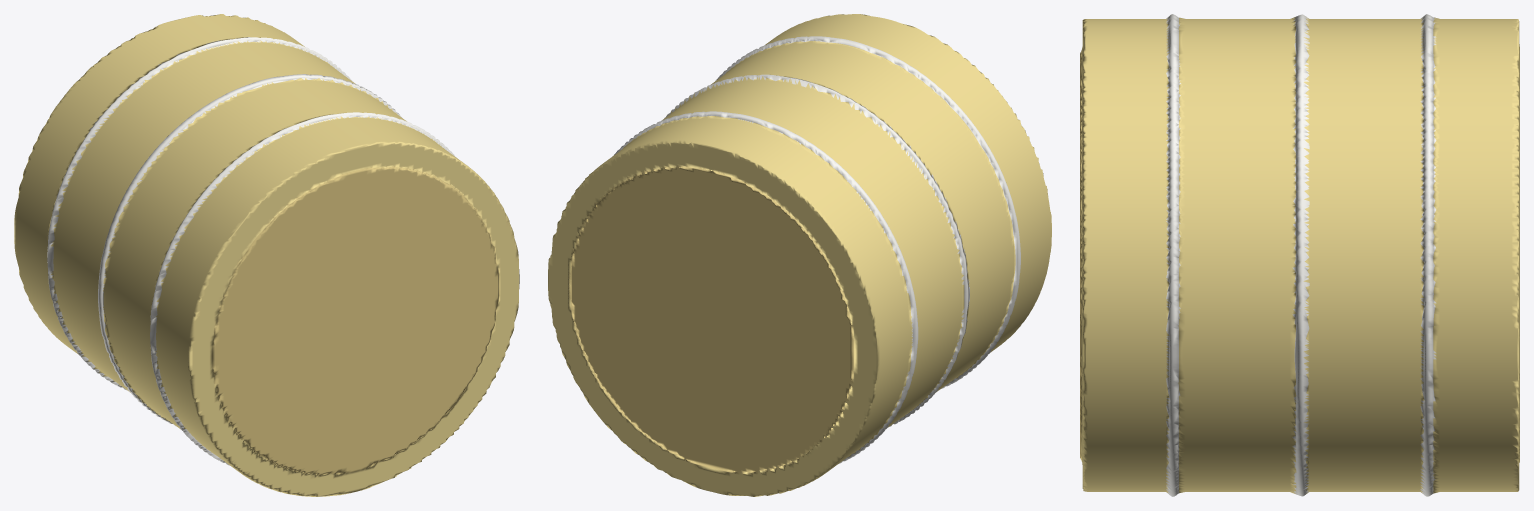
Rendered from hay_bale.glb.
3 views of the same model, side by side, from view 1: azimuth 30°, elevation 25°; view 2: azimuth 150°, elevation 25°; view 3: azimuth 270°, elevation 25° (orthographic). The views are drawn at different scales.
Visible parts, largest first — view 1: IronSmith model; view 2: IronSmith model; view 3: IronSmith model.
Part boxes in pixels (x1,y1,x2,y2): IronSmith model: (14, 14, 519, 496); IronSmith model: (548, 14, 1051, 496); IronSmith model: (1080, 14, 1519, 496).
Size of the model in its own units: 13.27 by 13.27 by 12.09.
